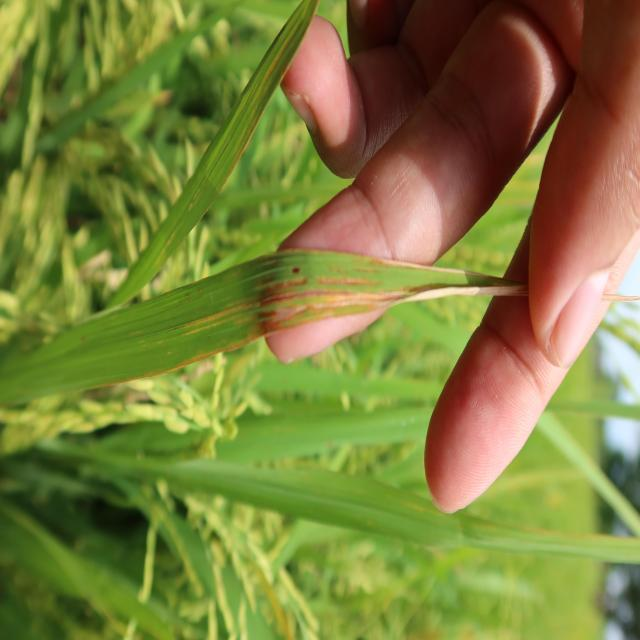Dom soc vi khuan: (171, 288, 412, 343), (261, 277, 308, 296), (318, 277, 380, 286)
